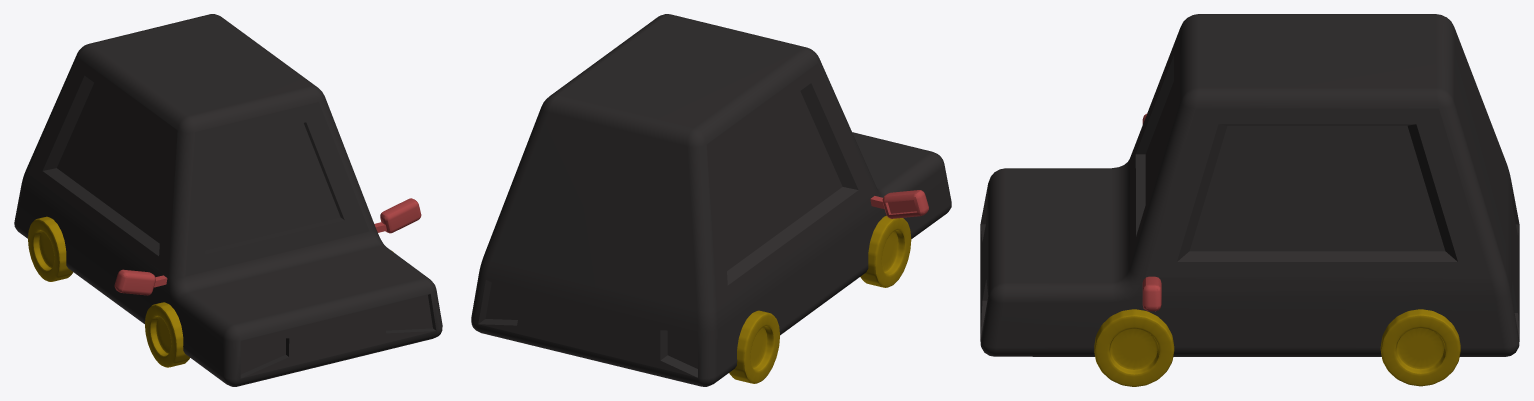
File: Auto Nuevesito.fbx
3 renders of one model, left to right at view 1: azimuth 30°, elevation 25°; view 2: azimuth 150°, elevation 25°; view 3: azimuth 270°, elevation 25°, orthographic. The views are drawn at different scales.
Visible parts, largest first — view 1: pCube1, pCylinder9, pCube6; view 2: pCube1, pCylinder9, pCube6; view 3: pCube1, pCylinder9, pCube6.
Part boxes in pixels (x1,y1,x2,y2): pCube1: [14, 14, 442, 386]; pCylinder9: [28, 216, 393, 367]; pCube6: [114, 198, 421, 295]; pCube1: [471, 14, 951, 386]; pCylinder9: [729, 215, 911, 383]; pCube6: [870, 190, 928, 218]; pCube1: [980, 14, 1519, 356]; pCylinder9: [1094, 309, 1460, 386]; pCube6: [1142, 113, 1161, 311].
Bounding box in the file's own units: 2.89 × 1.99 × 3.64.
